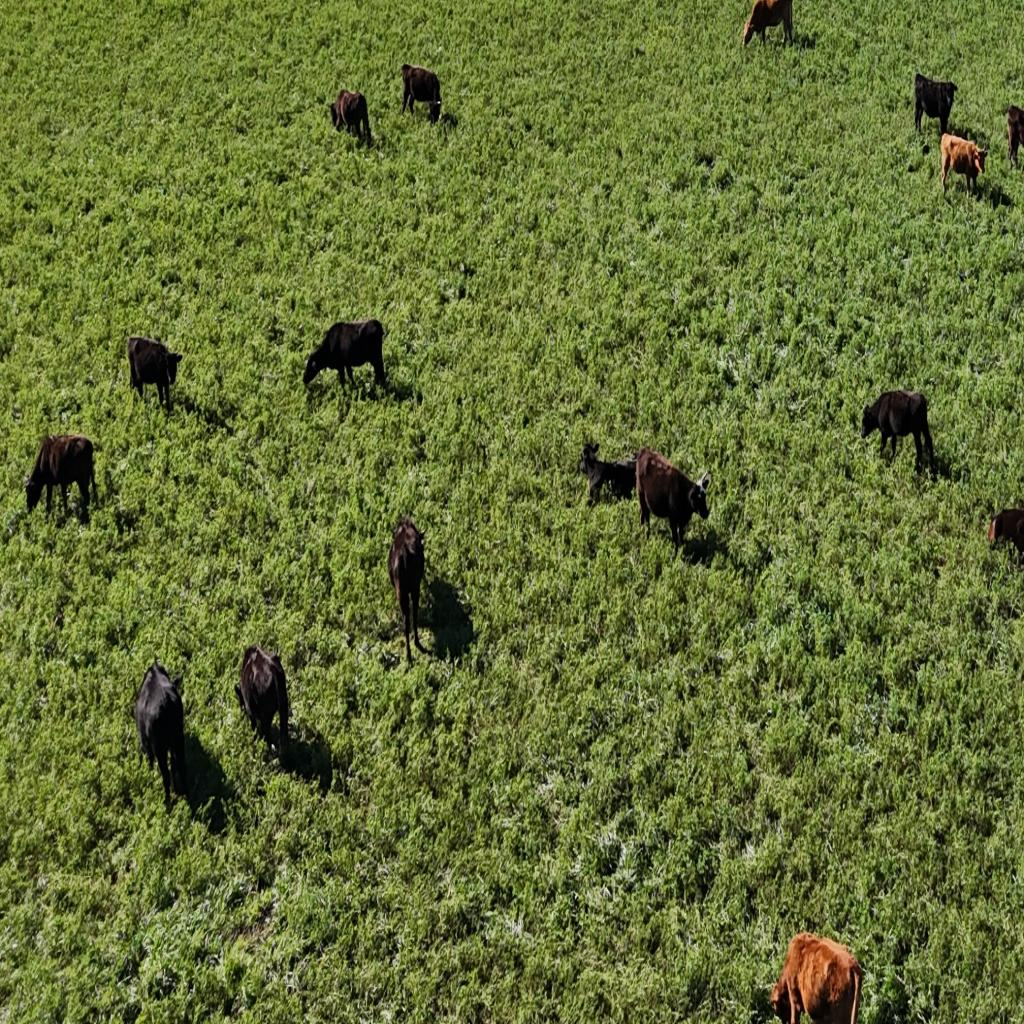cow: (769, 930, 862, 1024), (133, 655, 188, 809), (636, 447, 712, 555), (236, 639, 299, 768), (388, 514, 430, 666), (25, 433, 99, 518), (304, 320, 386, 396), (862, 389, 936, 472), (126, 335, 182, 413), (579, 444, 637, 509), (400, 59, 446, 131), (939, 132, 989, 197), (914, 72, 957, 140), (742, 0, 794, 50), (330, 89, 372, 145), (987, 506, 1024, 566), (1004, 104, 1024, 171)
